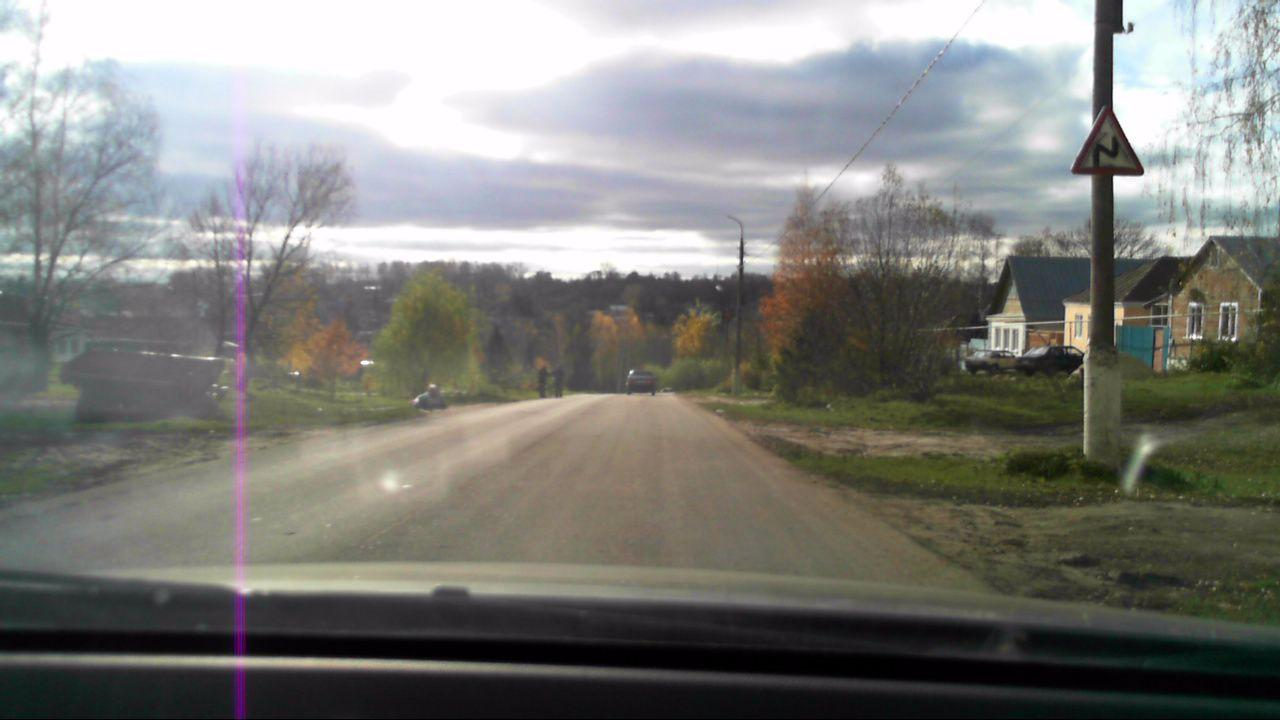1_12_1: (1071, 103, 1142, 176)
